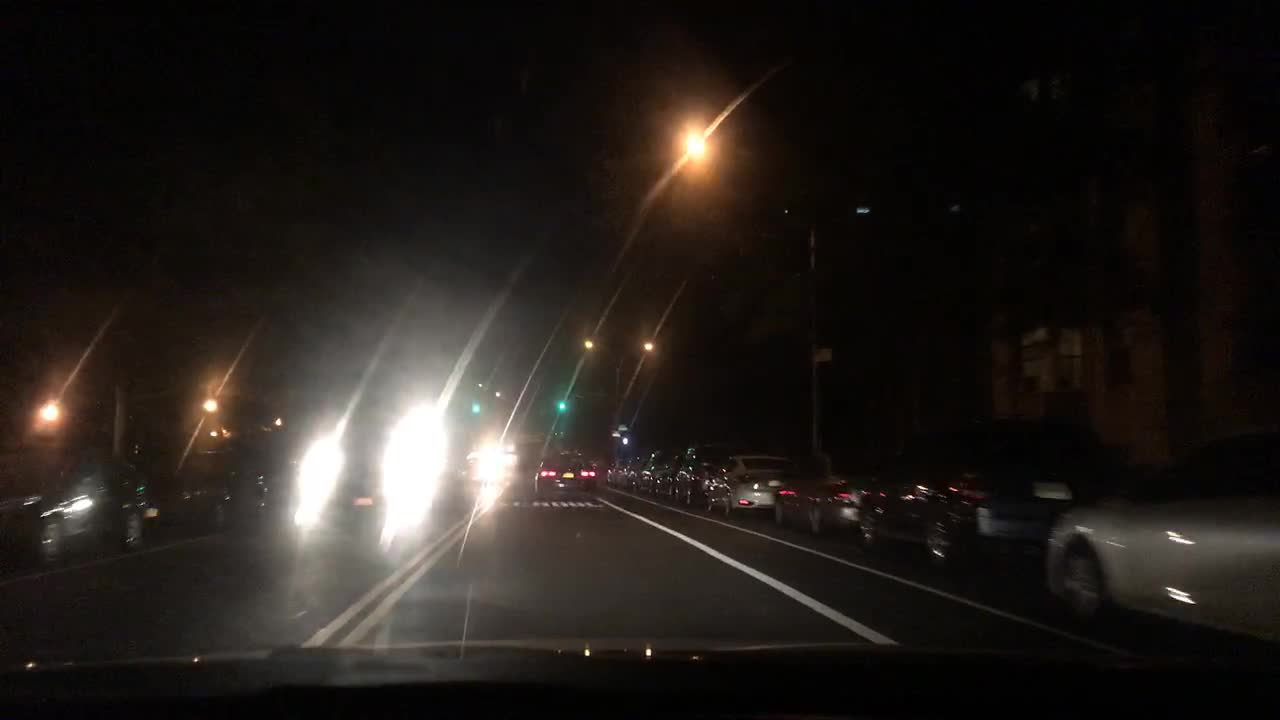car: (1040, 426, 1278, 647), (859, 420, 1114, 565), (0, 440, 148, 566), (298, 416, 459, 523), (150, 446, 277, 534), (769, 449, 895, 531), (672, 446, 751, 506), (706, 459, 791, 514), (534, 455, 596, 500), (460, 448, 510, 485), (653, 455, 675, 495), (642, 451, 663, 489), (611, 460, 631, 483), (626, 458, 642, 486)
traffic light: (556, 389, 566, 412), (470, 394, 481, 413)
